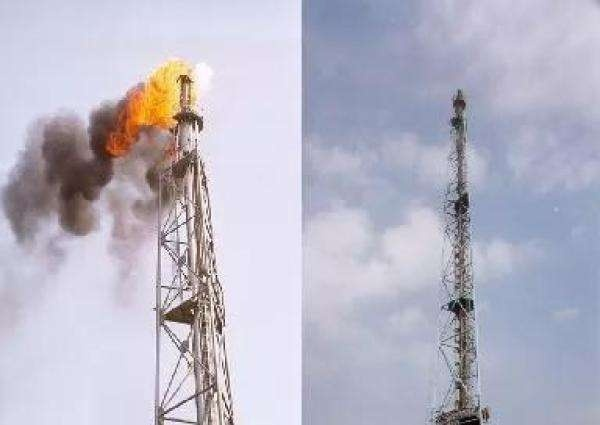fire: (99, 55, 200, 157)
